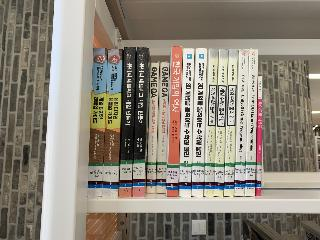book-spine: (87, 47, 108, 197), (102, 49, 122, 197), (165, 46, 183, 197), (119, 47, 137, 197), (132, 47, 149, 197), (179, 48, 195, 197), (191, 48, 207, 197), (204, 49, 219, 197), (234, 49, 249, 196), (224, 49, 238, 197), (214, 49, 228, 196), (155, 62, 170, 194), (245, 48, 258, 196), (146, 63, 159, 194), (256, 76, 262, 196)
